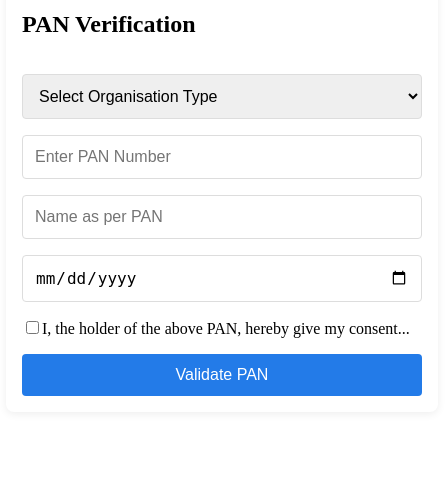
Test case: FormStep2 › shows error if date is missing
The width and height of the screenshot is (445, 494).
Select "Proprietorship" in the dropdown named "Select Organisation Type" at (222, 96), box [22,74,422,119]
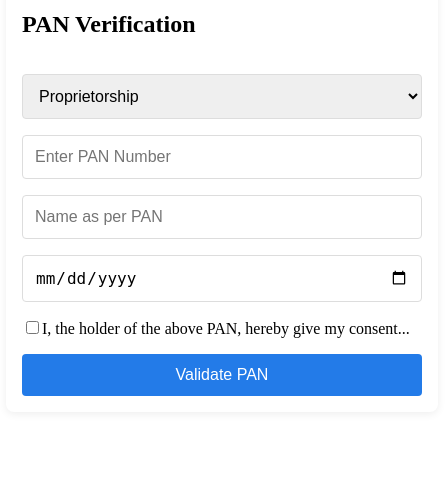
Type "ABCDE1234F" into the field with placeholder "Enter PAN Number" at (222, 157), box [22,135,422,179]
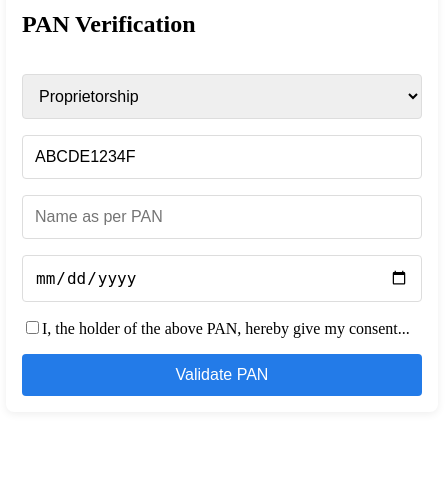
Type "Maithili" into the field with placeholder "Name as per PAN" at (222, 217), box [22,195,422,239]
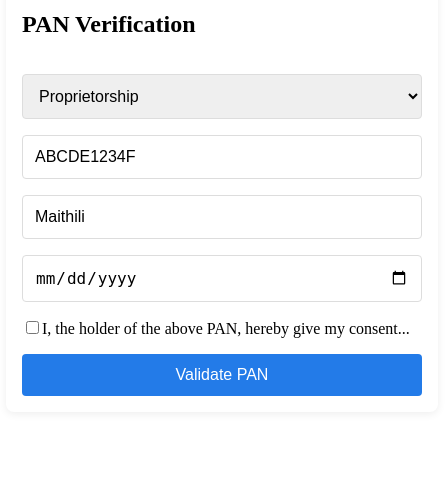
Click the button "Validate PAN" at (222, 375), box [22,354,422,396]
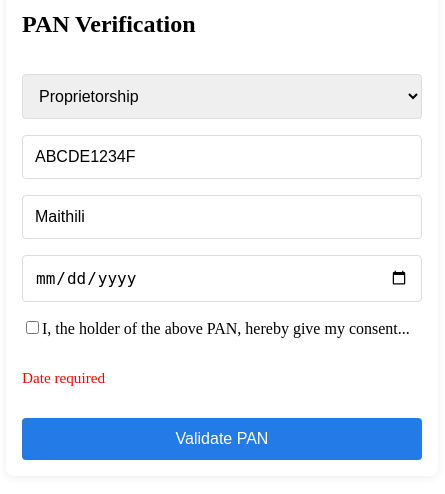
Check: the text "Date required" is shown, box [22,369,105,386]
